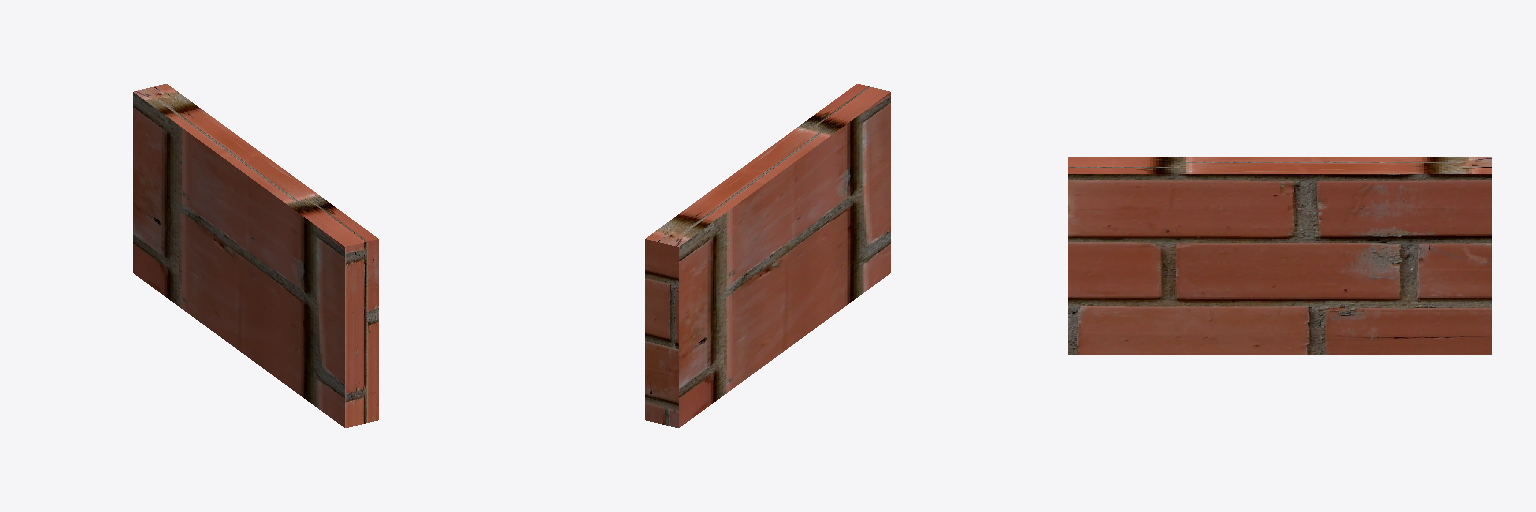
3 views of the same model, side by side, from view 1: azimuth 30°, elevation 25°; view 2: azimuth 150°, elevation 25°; view 3: azimuth 270°, elevation 25° (orthographic).
Visible parts, largest first — view 1: Cube; view 2: Cube; view 3: Cube.
Part boxes in pixels (x1,y1,x2,y2): Cube: (133,84,378,427); Cube: (645,84,890,427); Cube: (1068,157,1491,354).
Bounding box in the file's own units: 0.719 × 3.69 × 7.84.
Materials: 1 (1 with a texture image).